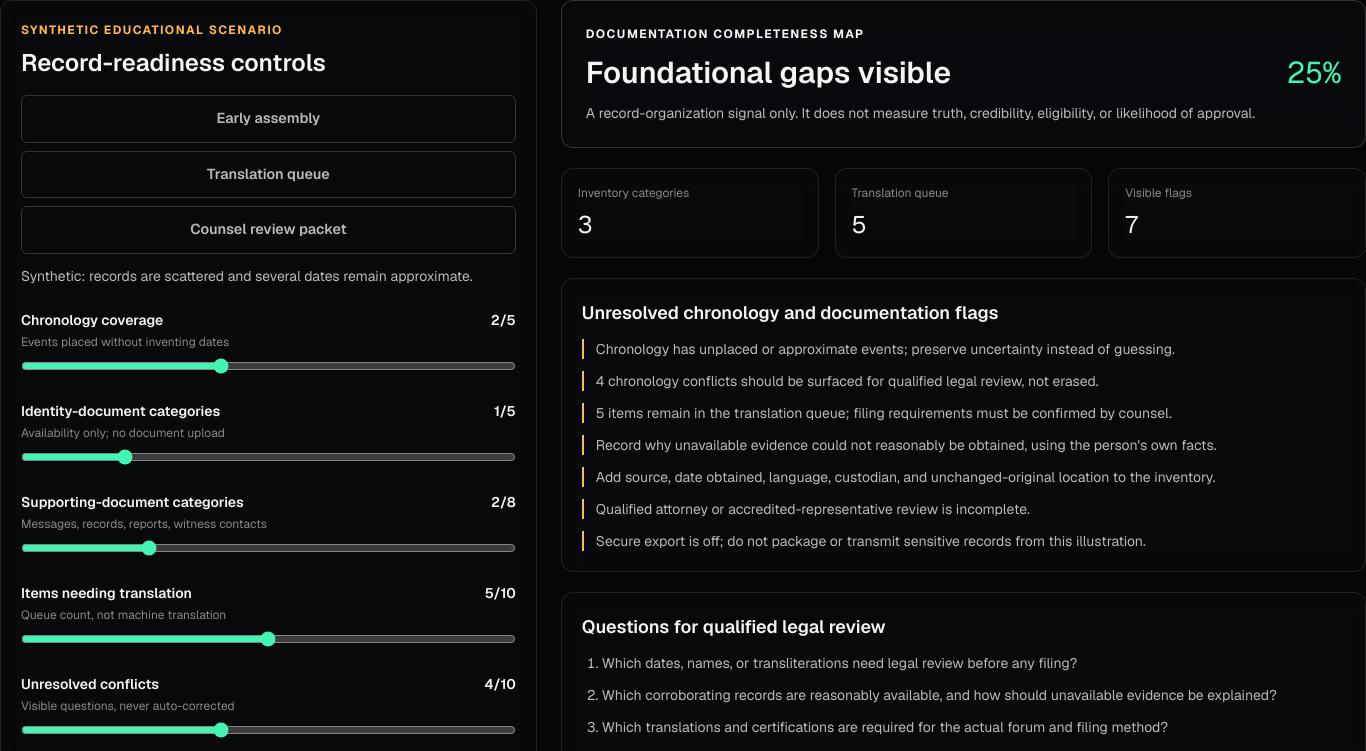
Test: AsylumReadinessBuilder › switches deterministic synthetic presets
What coordinates should you click on to do the following:
click the button "Counsel review packet"
I would click on:
 (268, 230)
Its box is [21, 206, 516, 254].
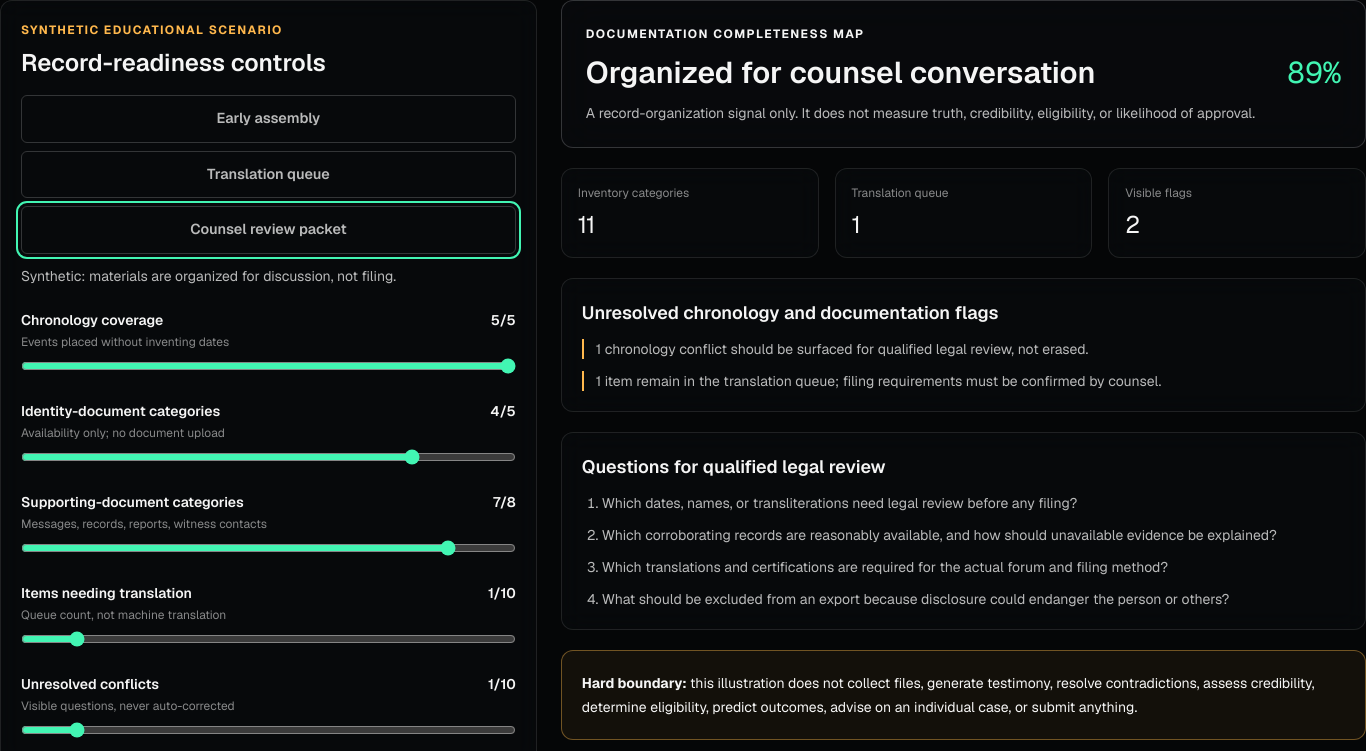
expect the text "89%" is shown: met, box [1287, 55, 1341, 91]
expect the text "1" is shown: met, box [852, 209, 861, 240]
